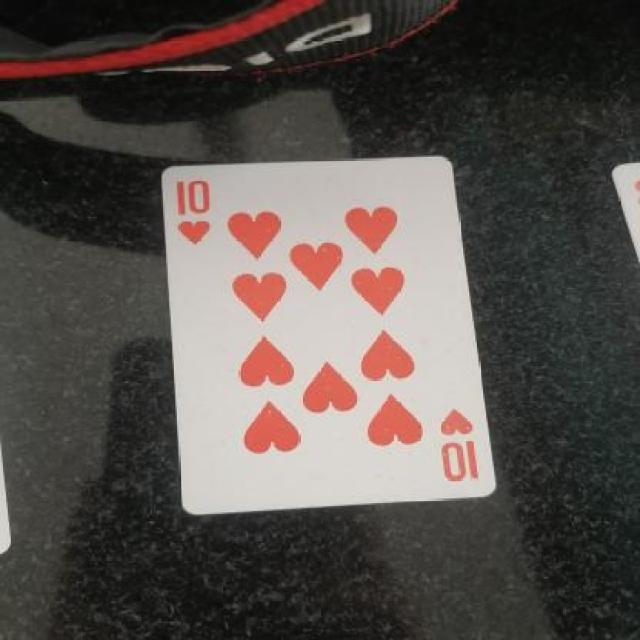10H: (421, 395, 496, 493), (149, 168, 240, 242)
